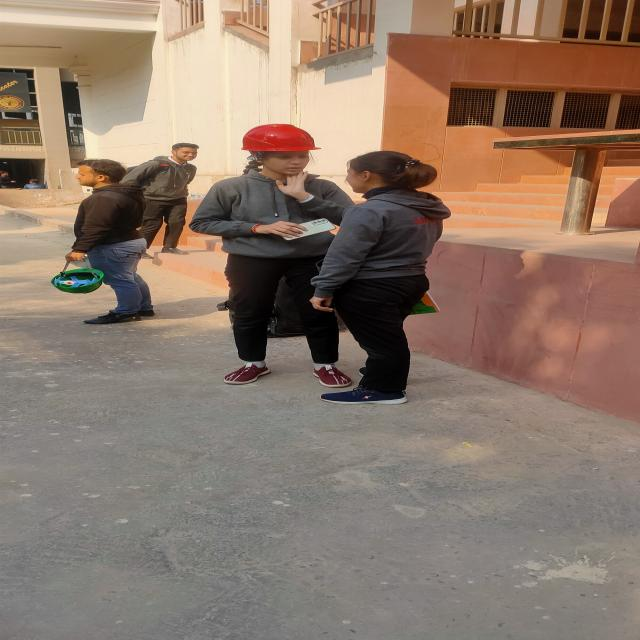no jacket: (225, 122, 358, 388)
unsafe: (322, 149, 452, 407), (62, 159, 154, 324), (132, 144, 197, 255), (1, 171, 17, 188), (24, 179, 46, 189)
